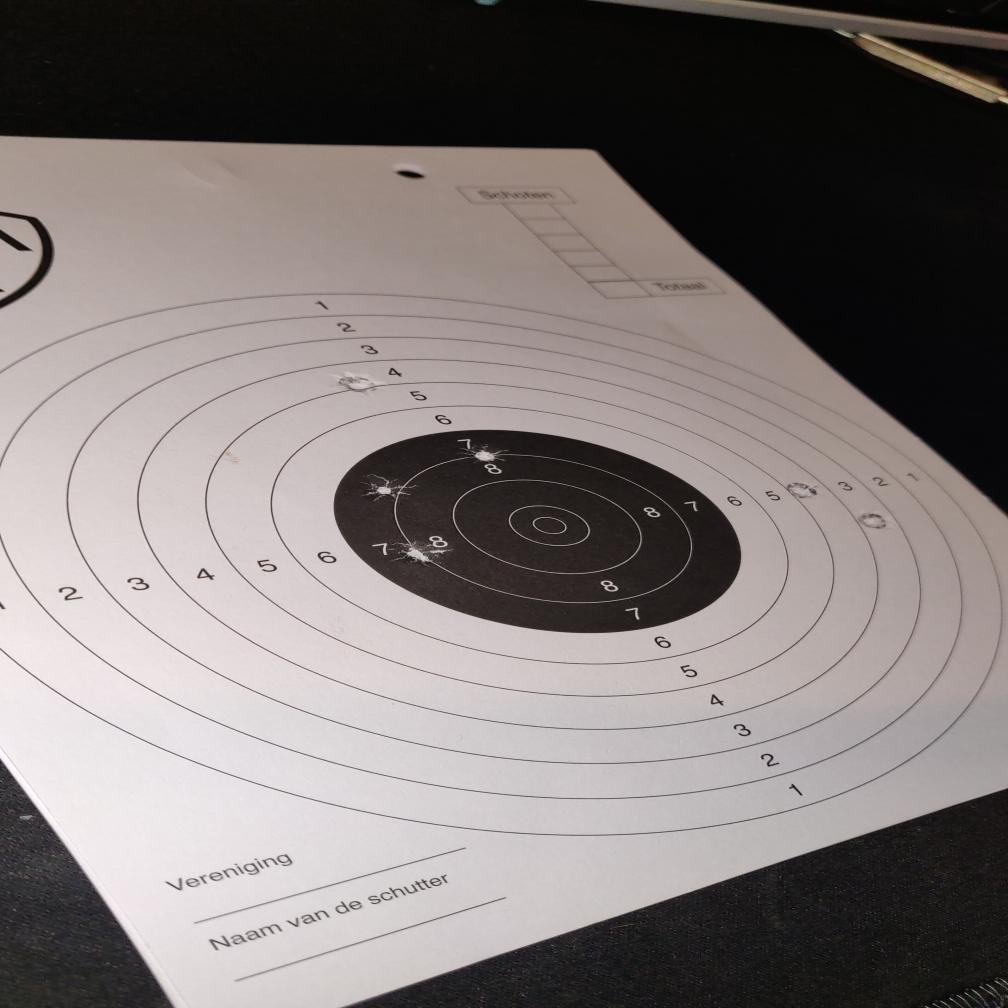3: (857, 512, 892, 529)
4: (786, 483, 818, 498)
5: (330, 370, 381, 396)
8: (357, 476, 416, 504), (394, 543, 446, 566), (459, 445, 511, 465)
Target: (0, 285, 1008, 840)
black_contour: (329, 428, 743, 634)
